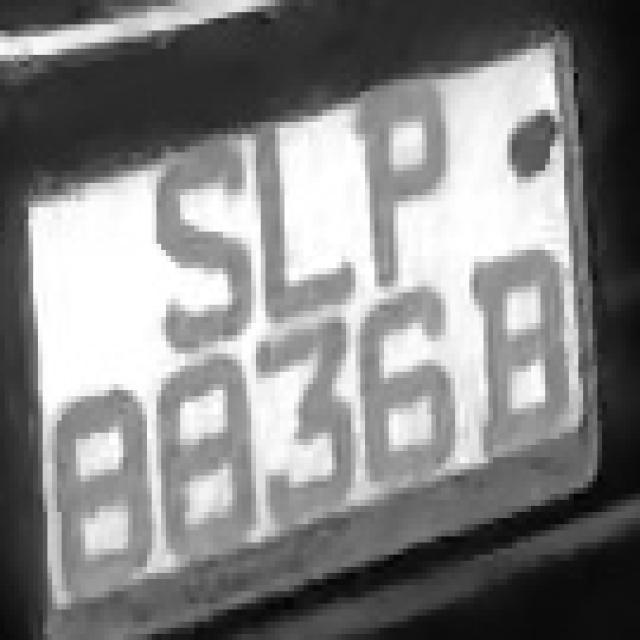3: (247, 286, 361, 530)
6: (355, 256, 460, 494)
8: (142, 347, 261, 579), (42, 384, 156, 610)
B: (464, 238, 569, 463)
L: (237, 104, 370, 329)
P: (346, 86, 460, 286)
S: (142, 122, 242, 353)
